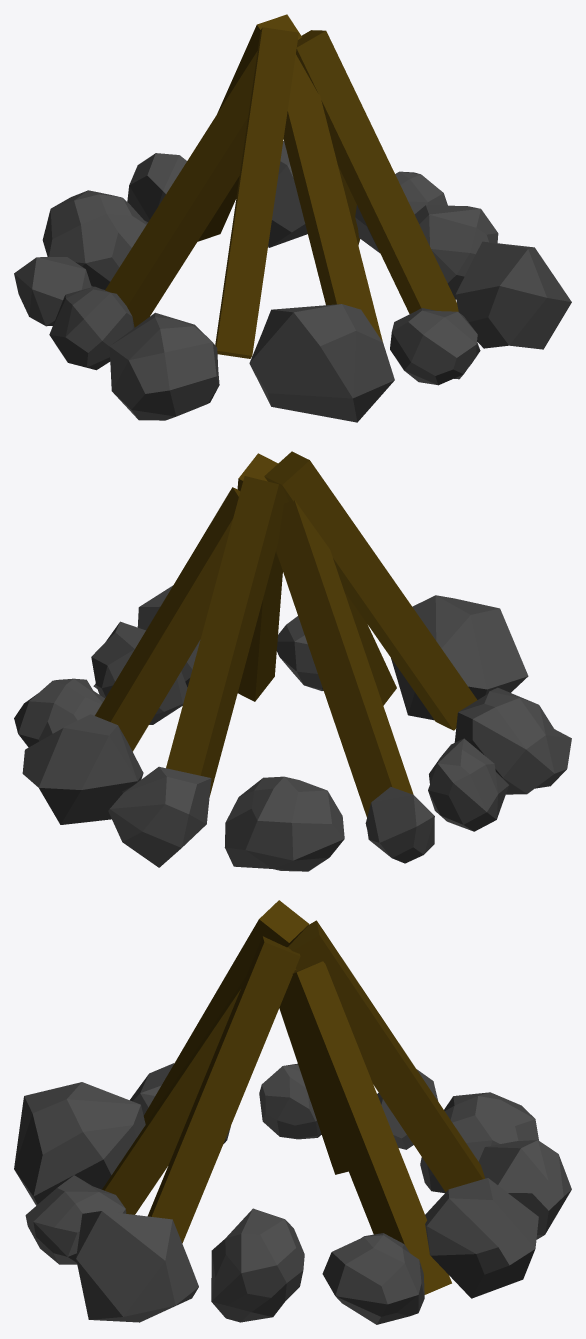
File: Campfire.fbx
The picture shows the model from 3 angles, top to bottom: view 1: azimuth 30°, elevation 25°; view 2: azimuth 150°, elevation 25°; view 3: azimuth 270°, elevation 25°; orthographic projection. The views are drawn at different scales.
Parts seen in each view (by area): view 1: Campfire; view 2: Campfire; view 3: Campfire.
Part boxes in pixels (<box>): Campfire: <box>14,14,571,422</box>; Campfire: <box>14,451,571,871</box>; Campfire: <box>14,900,571,1324</box>.
Size of the model in its own units: 39.22 by 27.64 by 41.72.
